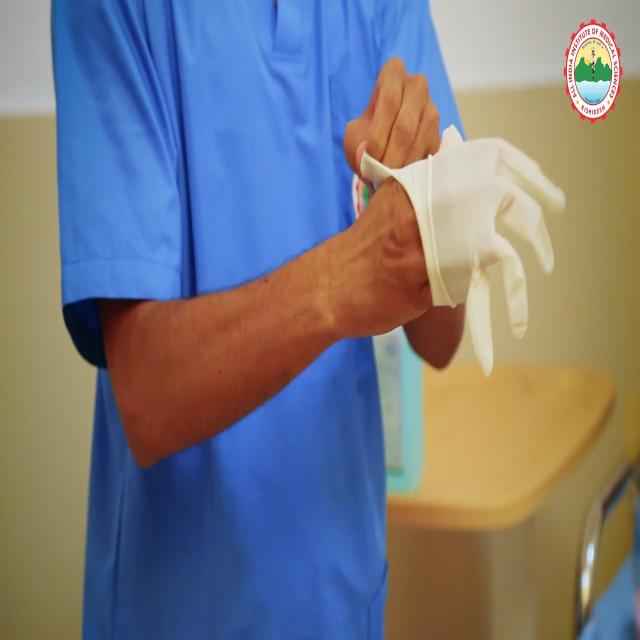Gloves: (399, 105, 567, 384)
